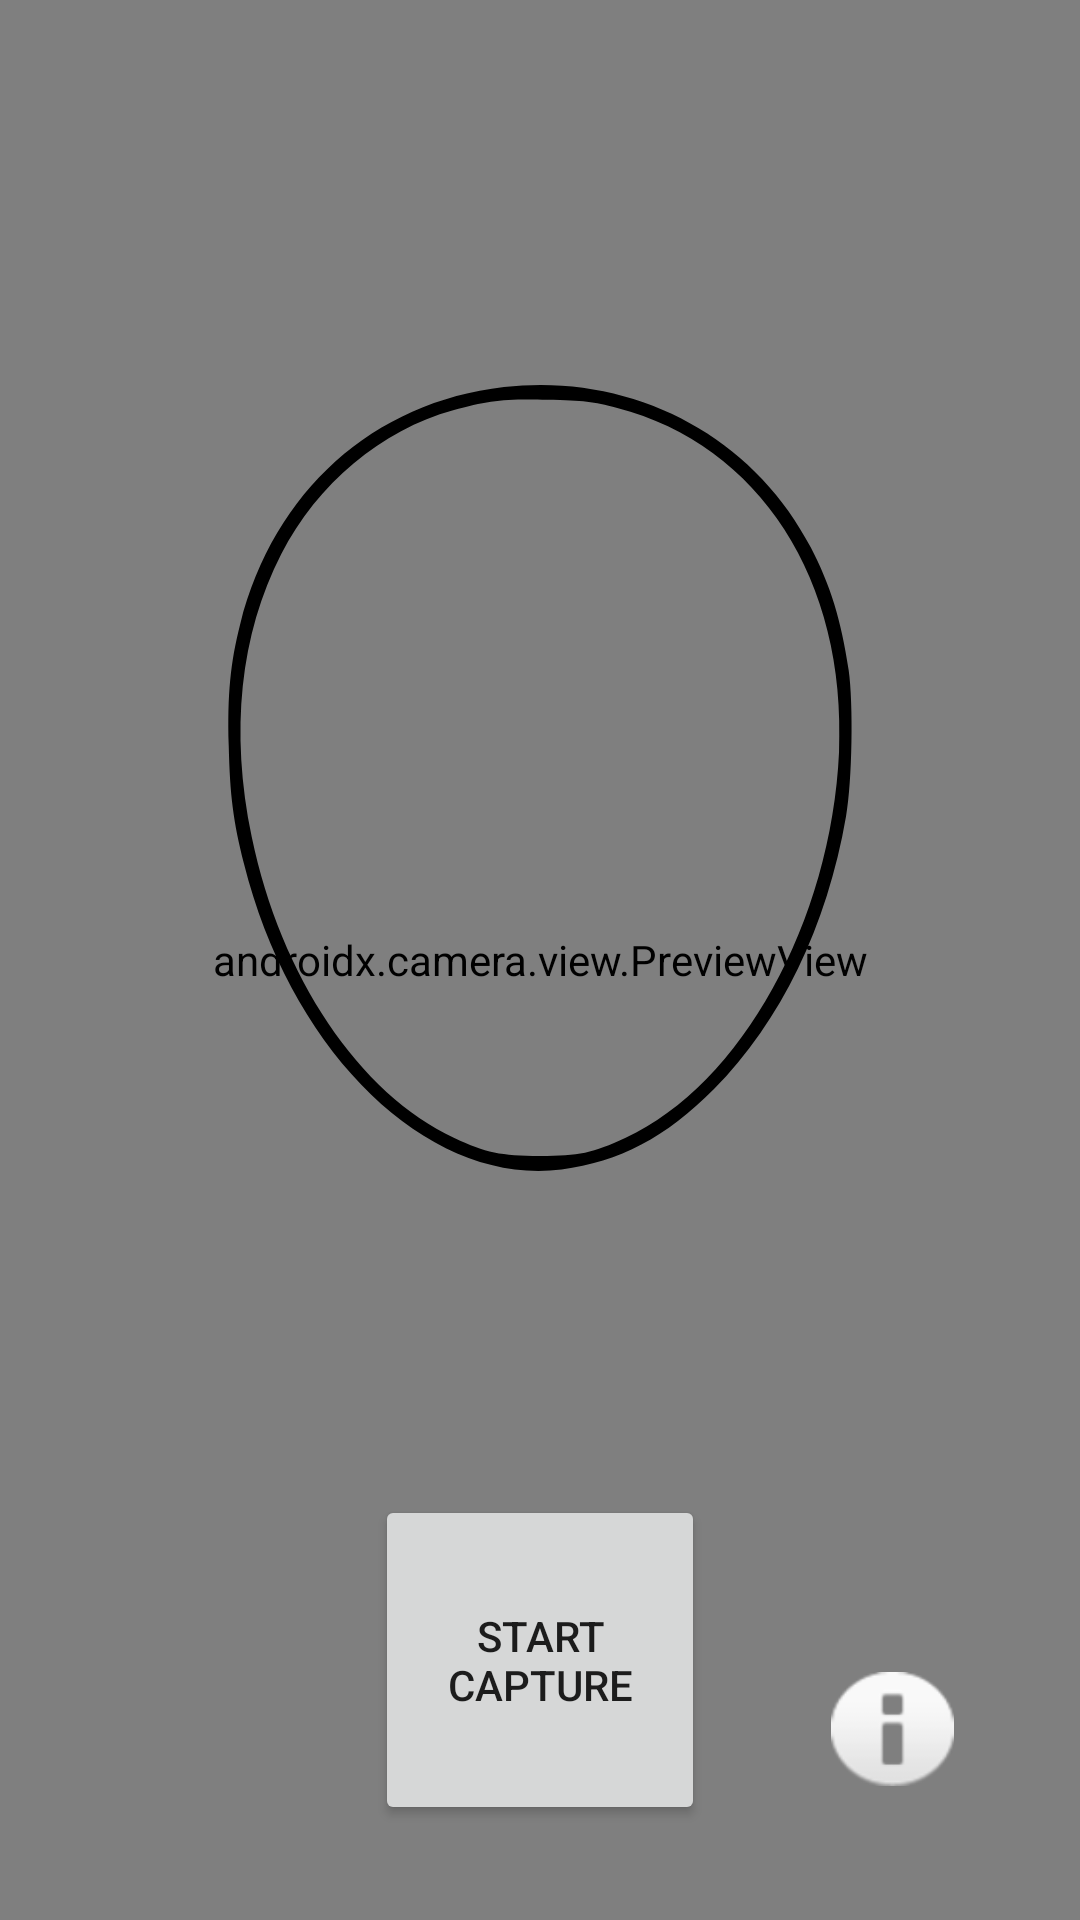

Point at icon controls on the screen. Image size 1080px x 1920px, points as (x=x, y=y).
info: (x=892, y=1729)
